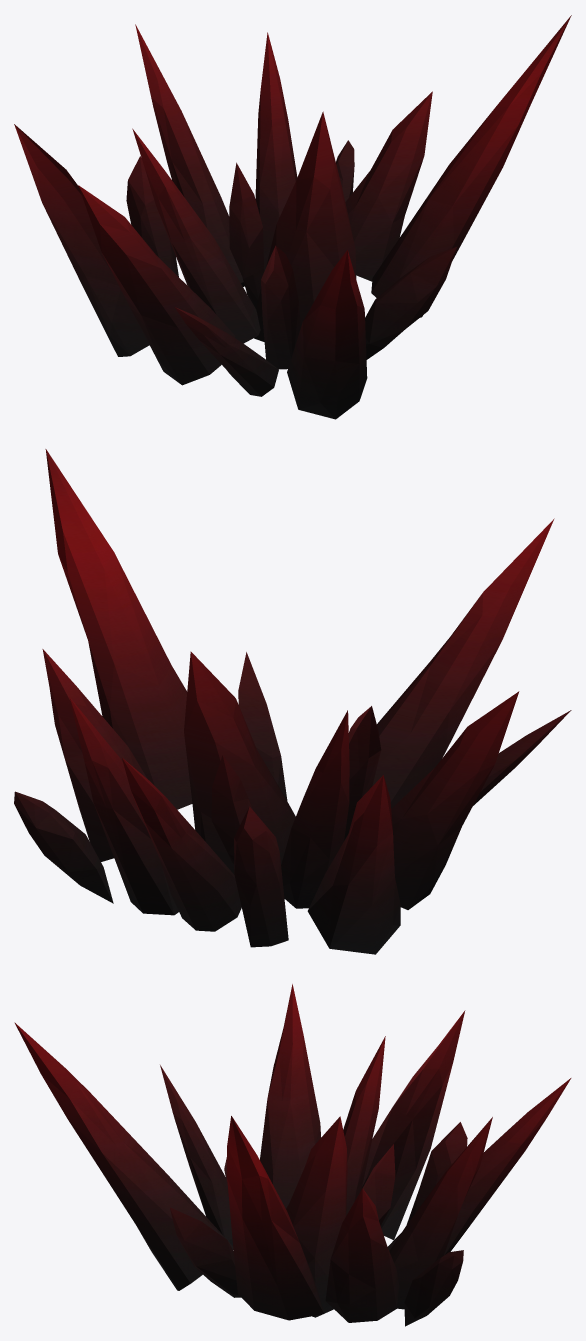
The model's file is SpikeClusterBig.fbx.
3 renders of one model, top to bottom at view 1: azimuth 30°, elevation 25°; view 2: azimuth 150°, elevation 25°; view 3: azimuth 270°, elevation 25°, orthographic. The views are drawn at different scales.
Visible parts, largest first — view 1: Spike_ClusterBig; view 2: Spike_ClusterBig; view 3: Spike_ClusterBig.
Part boxes in pixels (left/top/right/bottom): Spike_ClusterBig: left=14, top=15, right=571, bottom=419; Spike_ClusterBig: left=14, top=449, right=571, bottom=954; Spike_ClusterBig: left=14, top=984, right=571, bottom=1326.
Bounding box in the file's own units: 7.32 × 4.84 × 8.3.
Materials: 1 (1 with a texture image).
